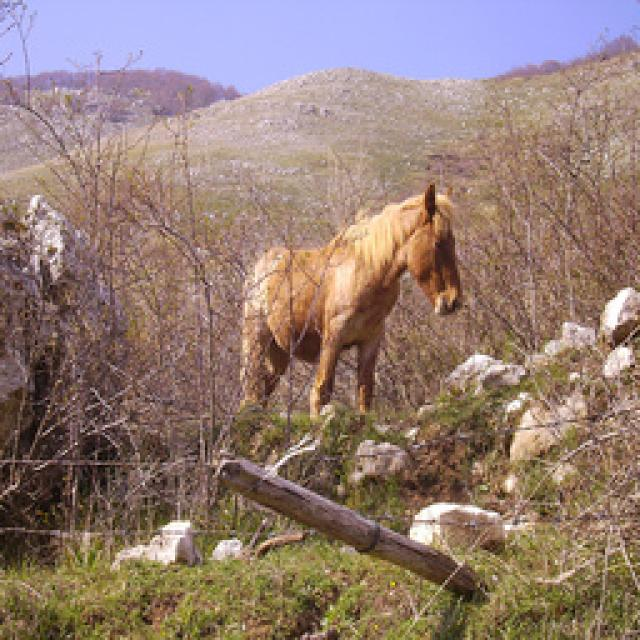not_pig: (235, 180, 463, 420)
